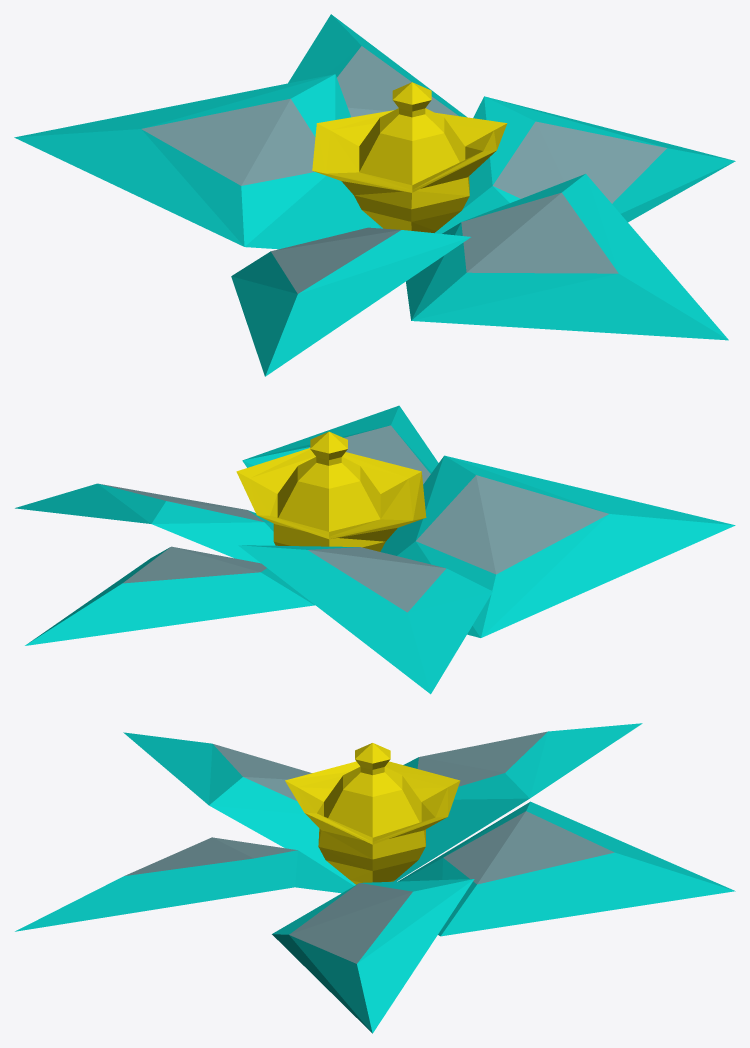
File: flower.fbx
3 views of the same model, one above another, from view 1: azimuth 30°, elevation 25°; view 2: azimuth 150°, elevation 25°; view 3: azimuth 270°, elevation 25° (orthographic). The views are drawn at different scales.
Parts seen in each view (by area): view 1: pSphere2; view 2: pSphere2; view 3: pSphere2.
Part boxes in pixels (<box>): pSphere2: <box>14,14,735,376</box>; pSphere2: <box>15,405,735,694</box>; pSphere2: <box>15,723,735,1033</box>.
Bounding box in the file's own units: 0.0725 × 0.0197 × 0.0811.
